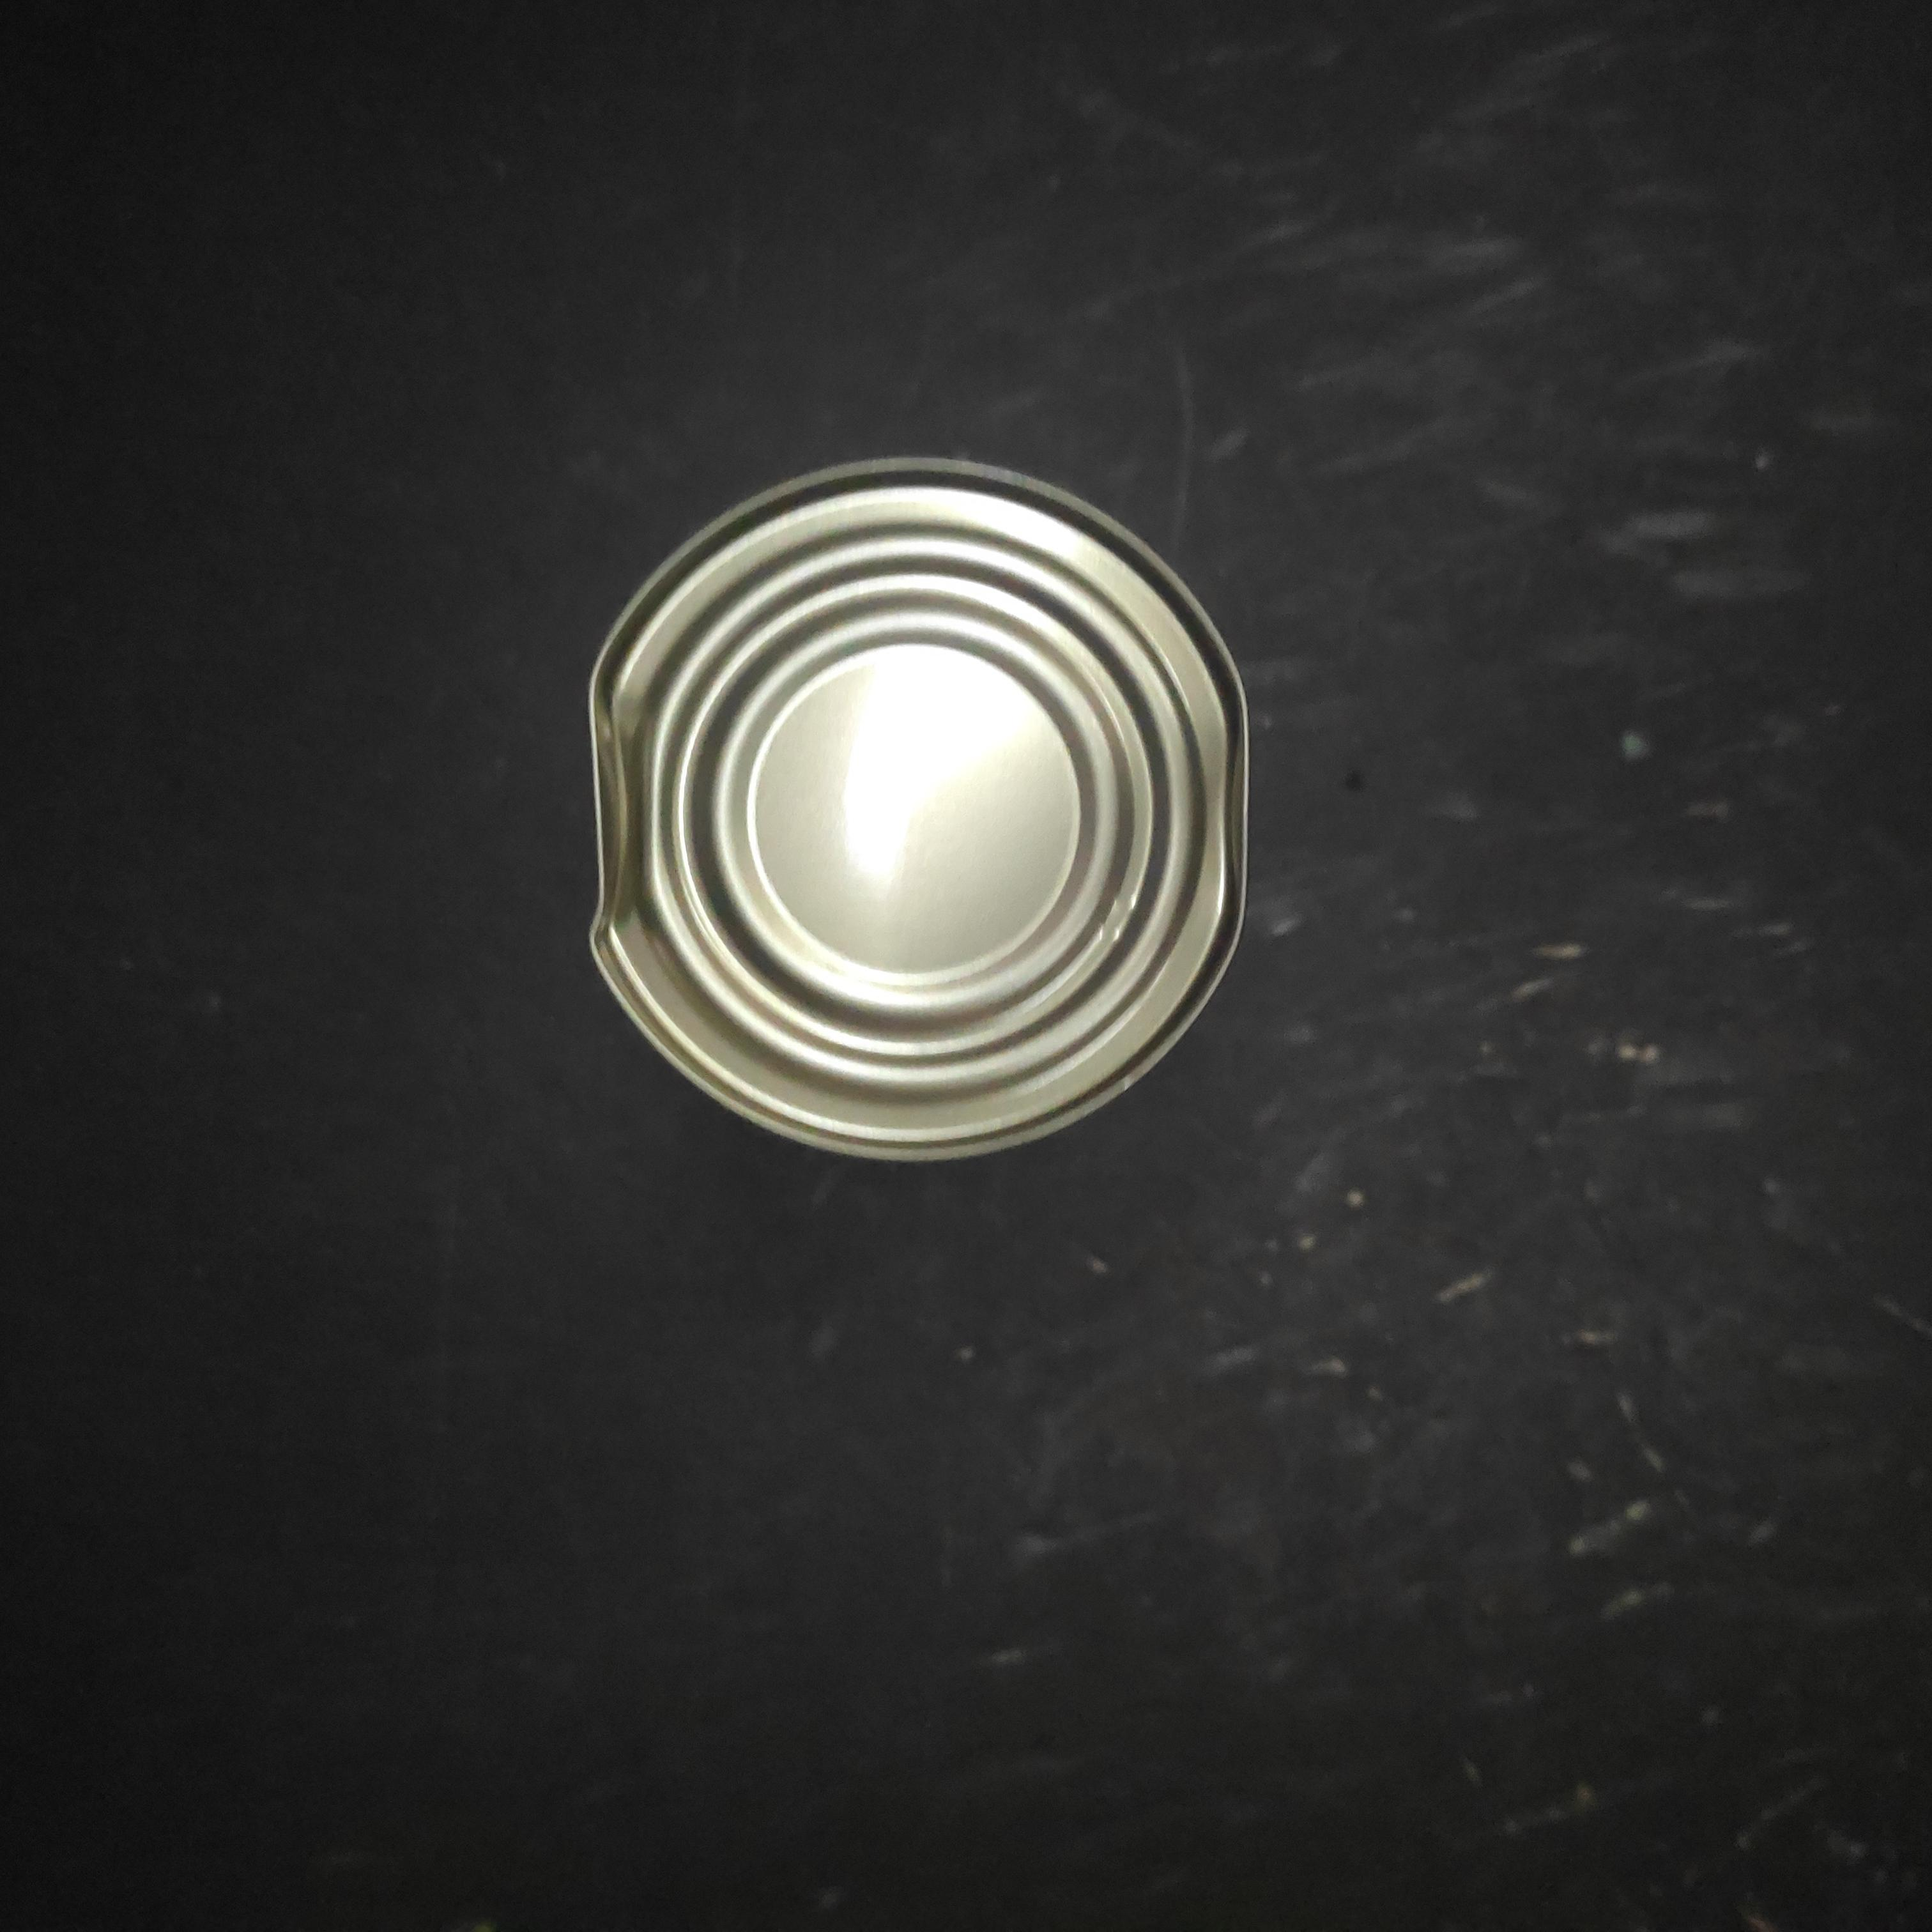Minor Defect: (662, 752, 1369, 1497)
